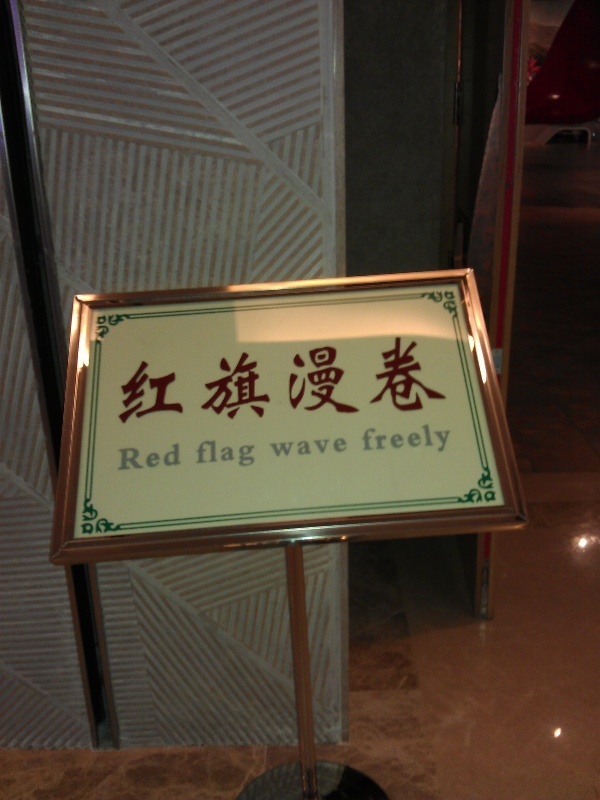text: (129, 336, 144, 432), (145, 336, 160, 432), (161, 336, 176, 432), (177, 336, 192, 432), (193, 336, 208, 432), (209, 336, 224, 432), (225, 336, 240, 432), (241, 336, 256, 432), (257, 336, 272, 432), (273, 336, 288, 432), (289, 336, 304, 432), (305, 336, 320, 432), (321, 336, 336, 432), (337, 336, 352, 432), (353, 336, 368, 432), (369, 336, 384, 432), (385, 336, 400, 432), (401, 336, 416, 432), (417, 336, 432, 432), (433, 336, 447, 432), (369, 420, 384, 460), (385, 420, 400, 460), (401, 420, 416, 460), (417, 420, 432, 460), (433, 420, 448, 460), (193, 436, 208, 471), (209, 436, 224, 471), (225, 436, 240, 471), (241, 436, 256, 471), (123, 336, 128, 432), (129, 443, 144, 471), (145, 443, 160, 471), (161, 443, 176, 471), (273, 434, 288, 460), (289, 434, 304, 460), (305, 434, 320, 460), (321, 434, 336, 460), (337, 434, 351, 460), (361, 420, 368, 460), (119, 443, 128, 471), (449, 420, 454, 460), (177, 443, 184, 471), (268, 434, 272, 460), (257, 436, 258, 471)
